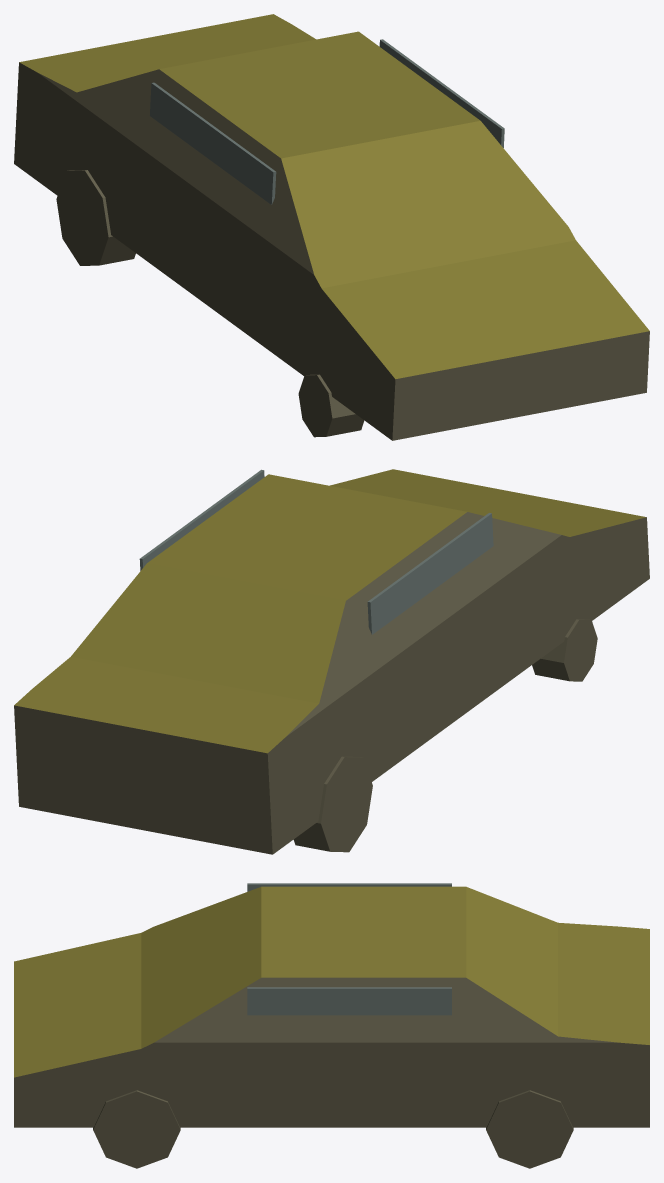
The model's file is SM_CocheCivil_Berlina_v2_LOD1.fbx.
3 views of the same model, one above another, from view 1: azimuth 30°, elevation 25°; view 2: azimuth 150°, elevation 25°; view 3: azimuth 270°, elevation 25° (orthographic). The views are drawn at different scales.
Parts seen in each view (by area): view 1: SM_coche_civil_v7_LOD1; view 2: SM_coche_civil_v7_LOD1; view 3: SM_coche_civil_v7_LOD1.
Boxes of the visible parts, <box> form: SM_coche_civil_v7_LOD1: <box>14,14,649,440</box>; SM_coche_civil_v7_LOD1: <box>14,469,649,854</box>; SM_coche_civil_v7_LOD1: <box>14,883,649,1168</box>.
Size of the model in its own units: 1.82 by 1.5 by 4.5.
